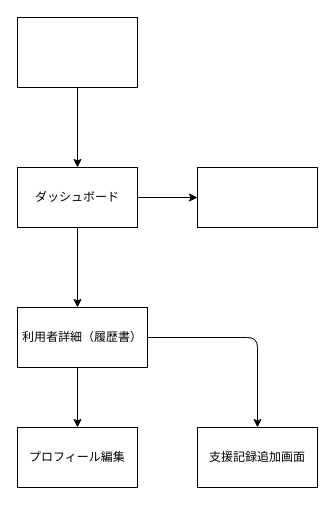
The diagram is 335 pixels wide and 505 high, and some of its shapes have lost their labels. Here are the shapes that lost their labels. From the top down, the centre of each, then its label:
[77,52]: ログイン
[257,197]: 利用者登録
